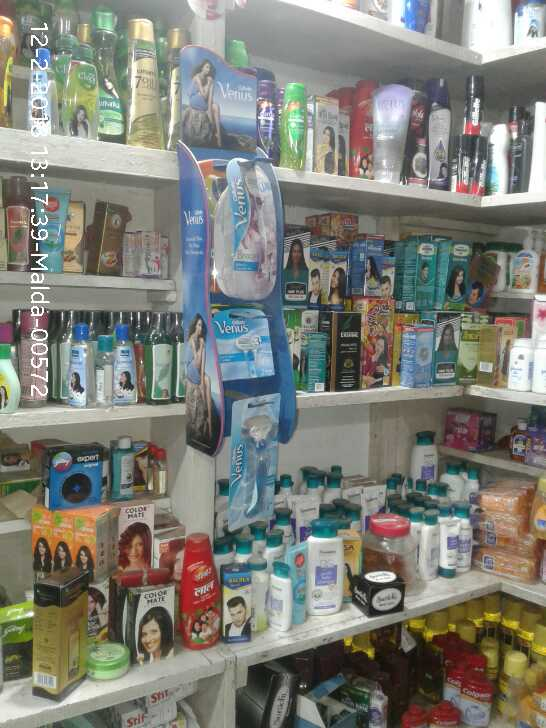venus: (221, 154, 284, 296), (229, 395, 274, 517), (211, 310, 273, 384)
